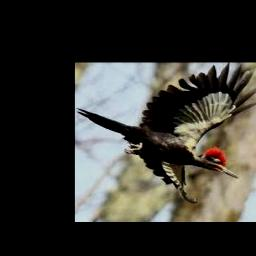Woodpecker: (76, 62, 256, 202)
